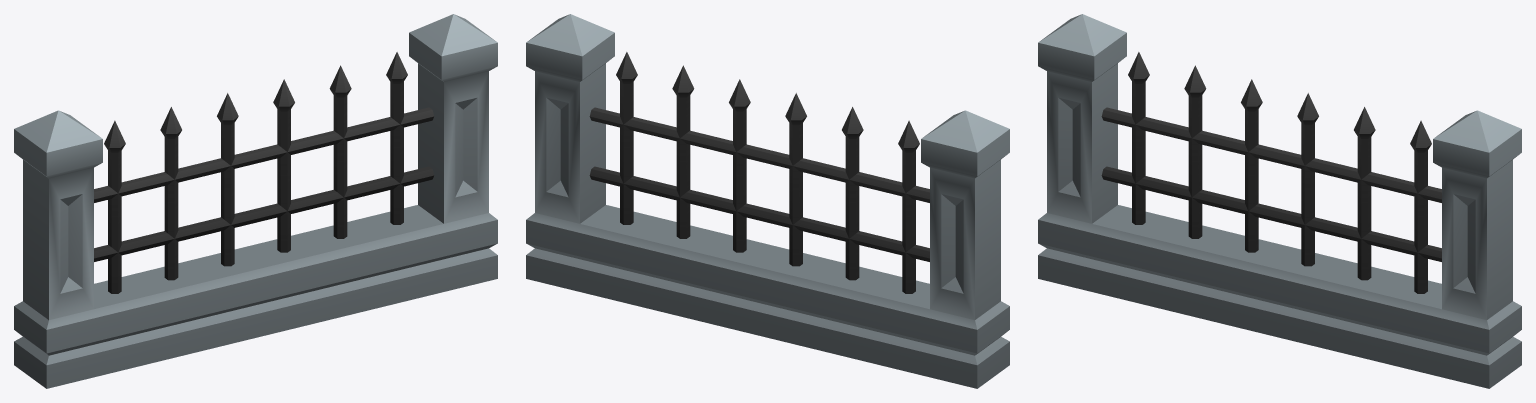
Rendered from Fence.glb.
3 renders of one model, left to right at view 1: azimuth 30°, elevation 25°; view 2: azimuth 150°, elevation 25°; view 3: azimuth 330°, elevation 25°, orthographic.
Parts seen in each view (by area): view 1: fence; view 2: fence; view 3: fence.
Part boxes in pixels (x1,y1,x2,y2): fence: (14, 14, 497, 388); fence: (526, 14, 1009, 388); fence: (1038, 14, 1521, 388).
Bounding box in the file's own units: 4 × 2.2 × 0.5.
1 material, 1 textured.
